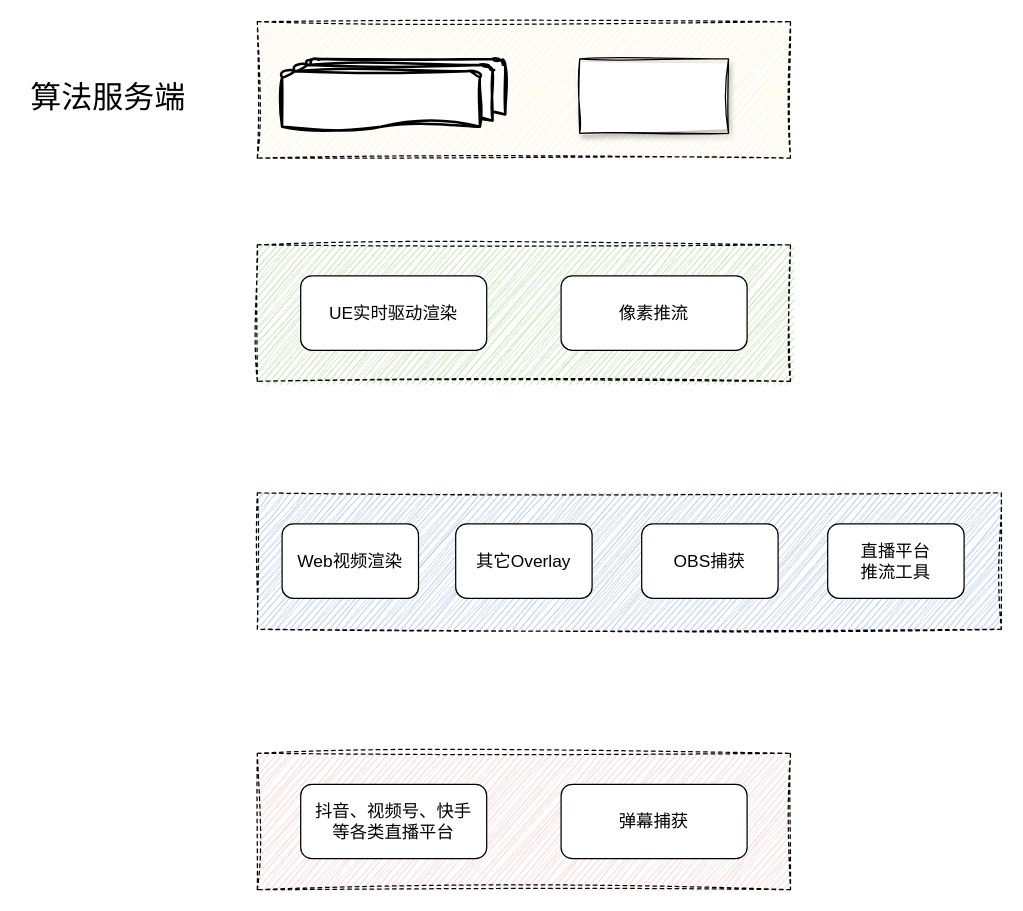
Image size: 1023x911. Some labels were removed from this diagram. Each missing label, with the centre of its shape:
"动作/表情驱动算法模型" belongs at pixel 393 95.
"算法工程Server" belongs at pixel 655 97.
